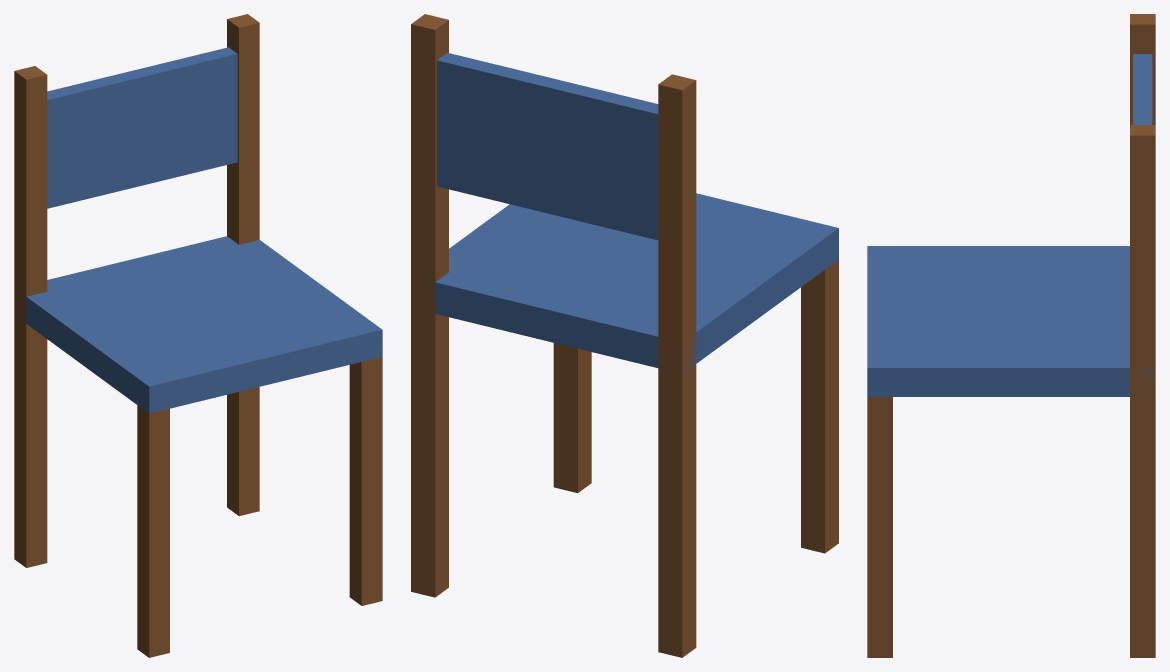
The model's file is chair.glb.
The picture shows the model from 3 angles, left to right: view 1: azimuth 30°, elevation 25°; view 2: azimuth 150°, elevation 25°; view 3: azimuth 270°, elevation 25°; orthographic projection. The views are drawn at different scales.
Parts seen in each view (by area): view 1: leg (×4), seat, back; view 2: leg (×4), seat, back; view 3: seat, leg (×3), back.
Part boxes in pixels (x1,y1,x2,y2): leg (×4): [14, 14, 382, 657]; seat: [14, 236, 382, 413]; back: [47, 47, 237, 208]; leg (×4): [411, 14, 838, 657]; seat: [424, 193, 838, 373]; back: [437, 52, 658, 240]; seat: [867, 246, 1155, 396]; leg (×3): [867, 14, 1155, 657]; back: [1133, 54, 1152, 124].
Size of the model in its own units: 0.45 by 0.9 by 0.45.
